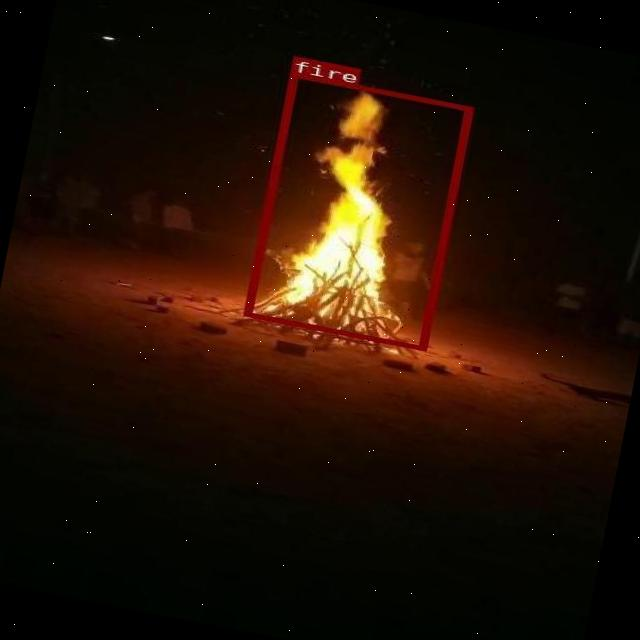fire: (243, 70, 472, 350)
